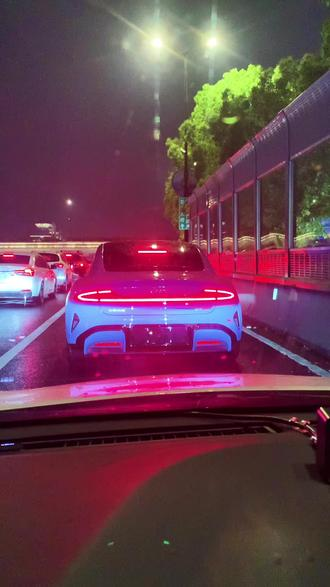other: (0, 246, 56, 306)
su7: (65, 243, 246, 369)
